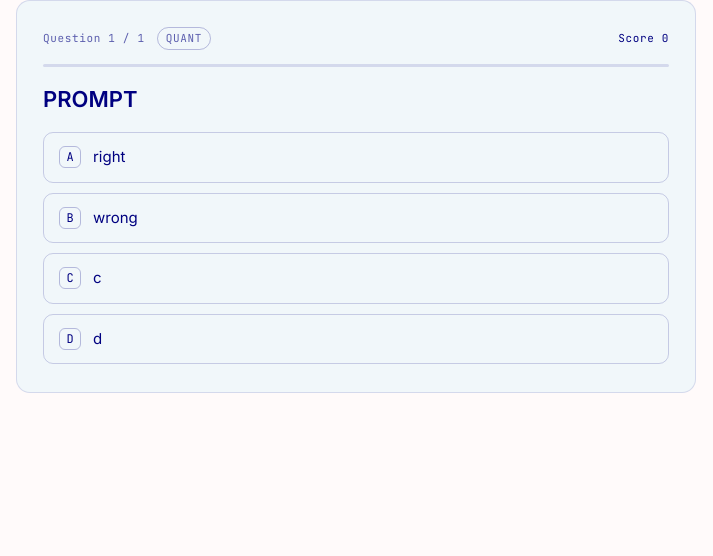
Test case: QuizClient results — share › offers a share link once the run is finished
Expected: the link "share on x" is not shown
Click the text "right": (109, 157) left=93, top=146, right=125, bottom=169
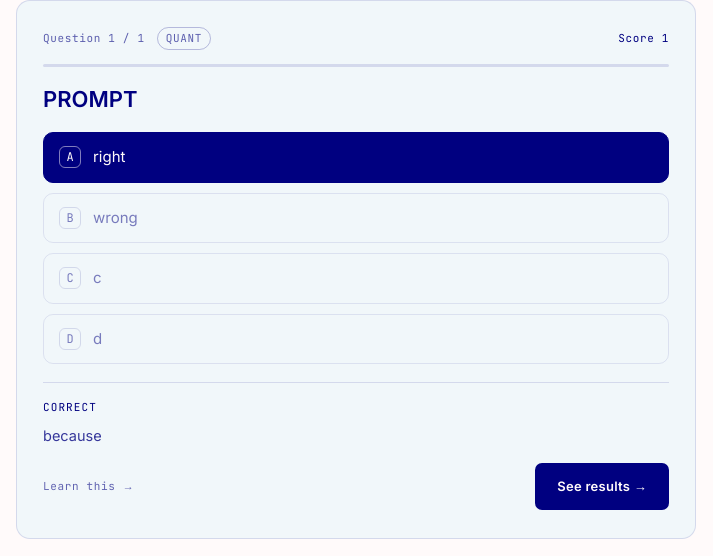
Click the button "See results →": (602, 487) left=535, top=463, right=669, bottom=510
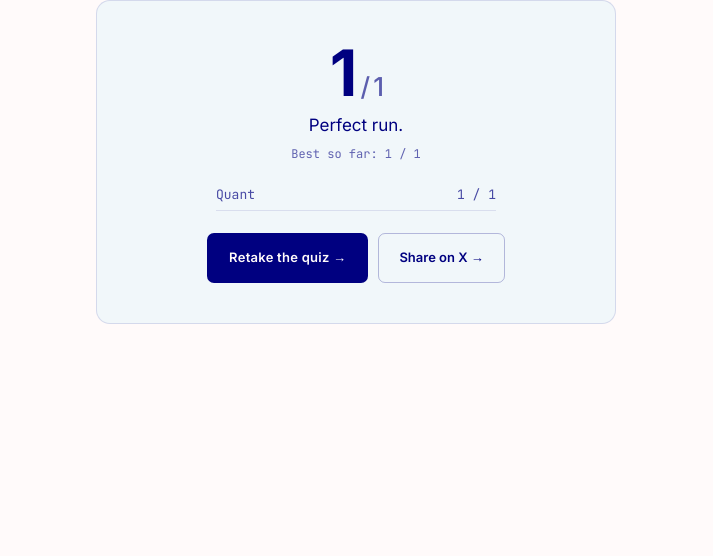
Result: the link "Share on X →" is shown at left=378, top=233, right=505, bottom=282
